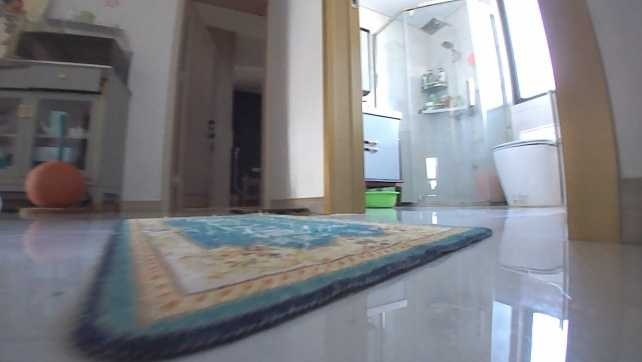blanket: (70, 209, 490, 358)
toilet: (490, 120, 562, 208)
